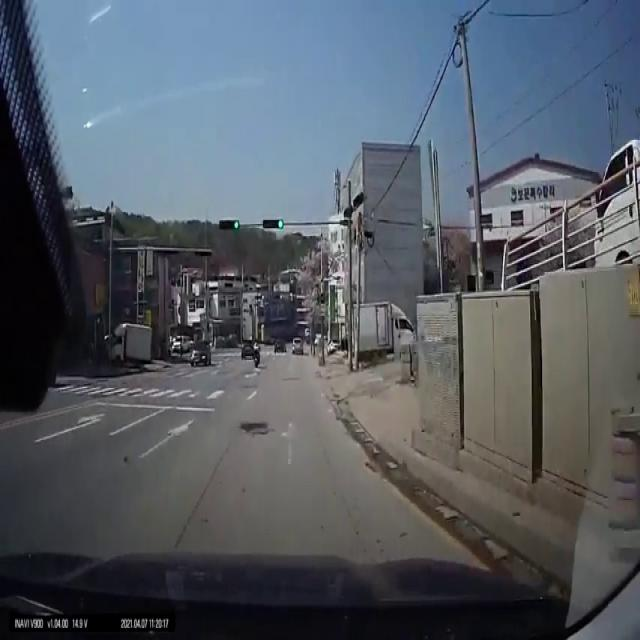Pothole: (240, 417, 270, 435)
